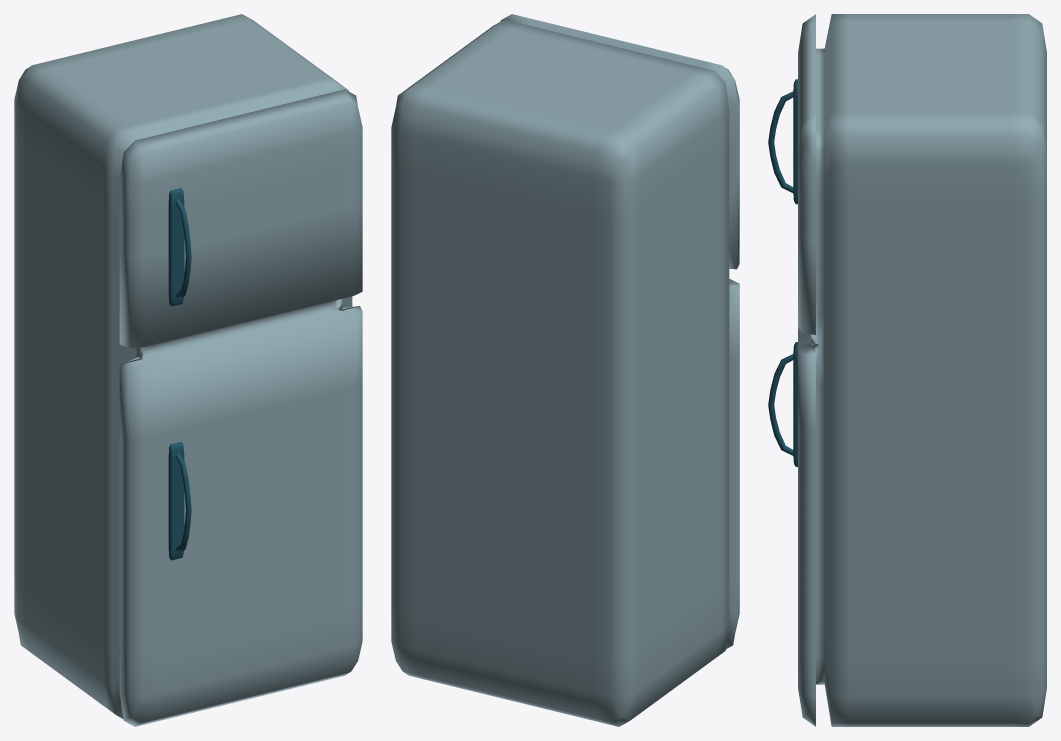
The model's file is heladera.FBX.
3 views of the same model, side by side, from view 1: azimuth 30°, elevation 25°; view 2: azimuth 150°, elevation 25°; view 3: azimuth 270°, elevation 25° (orthographic). The views are drawn at different scales.
Visible parts, largest first — view 1: Box001, Box002, Box003, Torus001, Torus002; view 2: Box001; view 3: Box001, Torus001, Torus002, Box002, Box003.
Part boxes in pixels (x1=…): Box001: x1=14, y1=14, x2=362, y2=726; Box002: x1=168, y1=188, x2=184, y2=306; Box003: x1=168, y1=442, x2=184, y2=560; Torus001: x1=175, y1=199, x2=191, y2=298; Torus002: x1=175, y1=453, x2=191, y2=551; Box001: x1=391, y1=14, x2=739, y2=726; Box001: x1=798, y1=14, x2=1046, y2=726; Torus001: x1=768, y1=91, x2=793, y2=192; Torus002: x1=768, y1=354, x2=793, y2=455; Box002: x1=793, y1=79, x2=797, y2=204; Box003: x1=793, y1=342, x2=797, y2=466.
Size of the model in its own units: 300 by 700 by 291.
